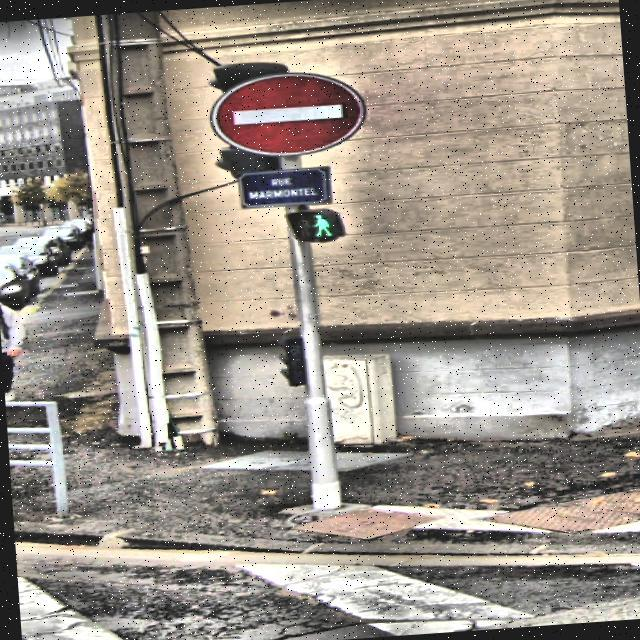green_light: (304, 210, 336, 238)
